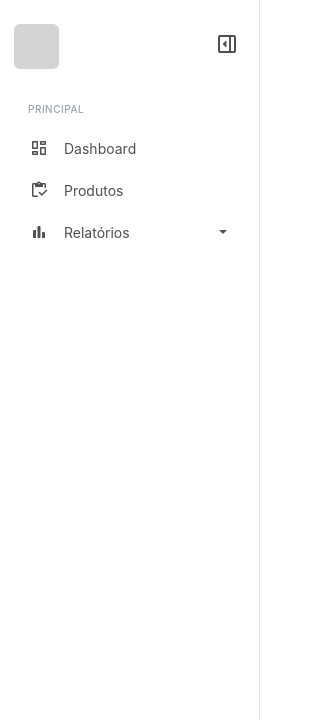
Test case: StrSidebarComponent › abre o submenu ao clicar em um item com filhos
This screenshot has width=320, height=720.
What coordinates should you click on to do the following:
click the button with class "str-sidebar__item" showing "Relatórios"
I would click on:
 (130, 232)
Its box is [16,212,243,252].
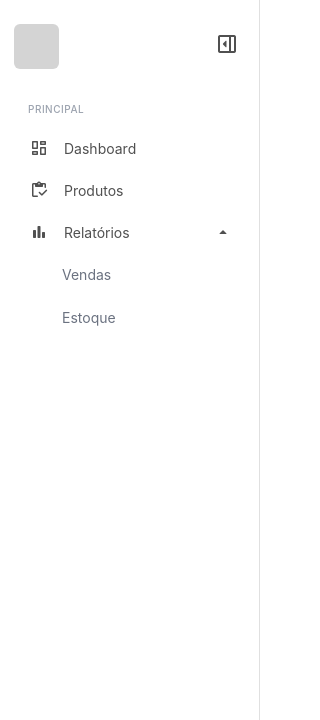
Expected: the element with class "str-sidebar__submenu--open" is shown, [16,254,243,338]
